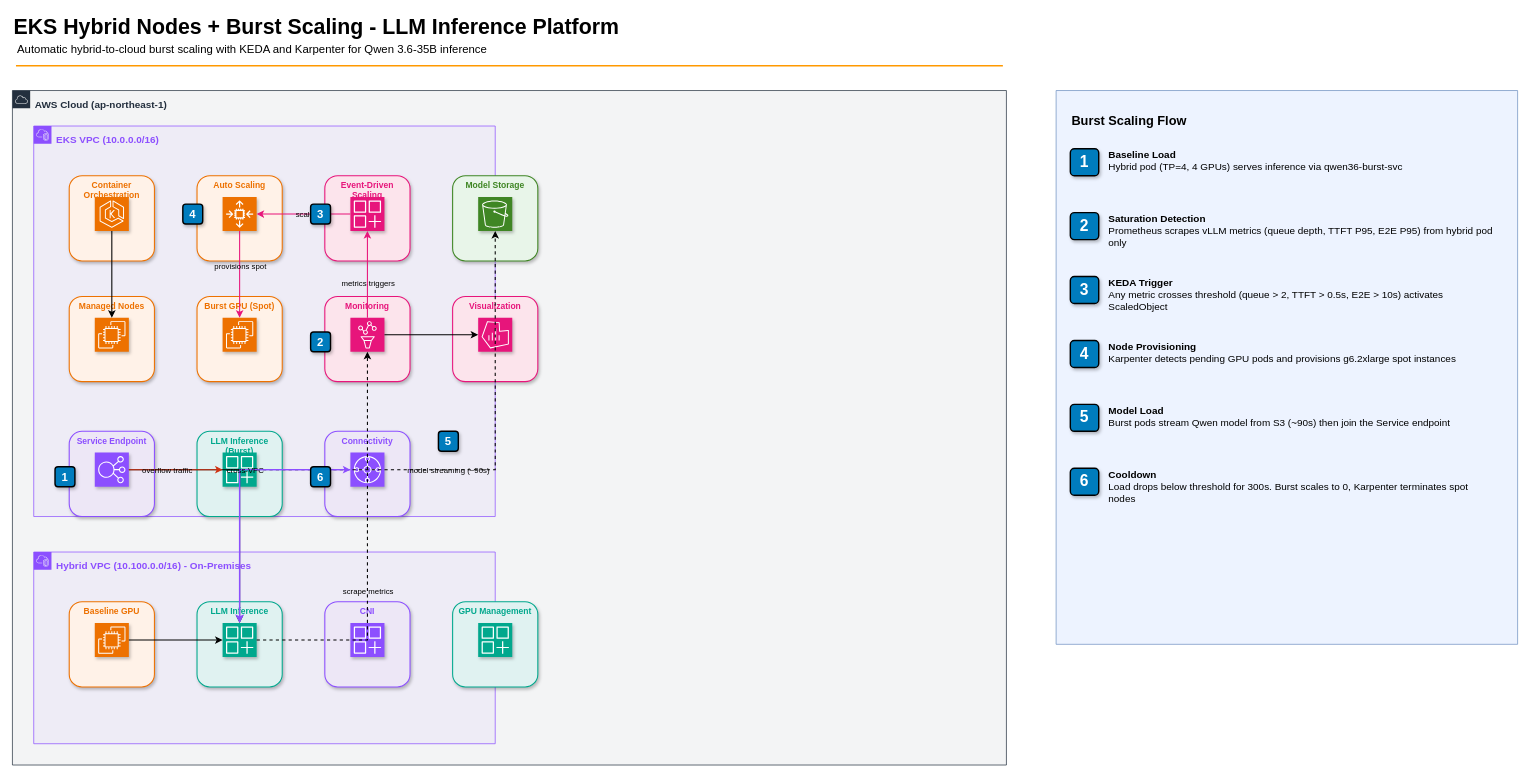
Image size: 1530x777. Some labels were removed from this diagram. Each missing label, with the centre of its shape:
Amazon EKS llm-k8sv4 (v1.33): (112,214)
Amazon S3 Qwen model weights: (496,214)
Cilium VXLAN overlay: (368,640)
EC2 3x m5.2xlarge: (112,335)
EC2 g6.12xlarge 4x NVIDIA L4 (TP=4): (112,640)
EC2 Spot g6.2xlarge (0-4): (240,335)
Grafana Dashboards: (496,335)
Karpenter GPU NodePool: (240,214)
KEDA ScaledObject: (368,214)
NVIDIA GPU Operator DCGM Exporter: (496,640)
Prometheus vLLM metrics: (368,335)
qwen36-burst-svc round-robin: (112,470)
Transit Gateway VPC peering: (368,470)
vLLM Burst (TP=1, S3 stream): (240,470)
vLLM Hybrid (TP=4, hostPath): (240,640)
